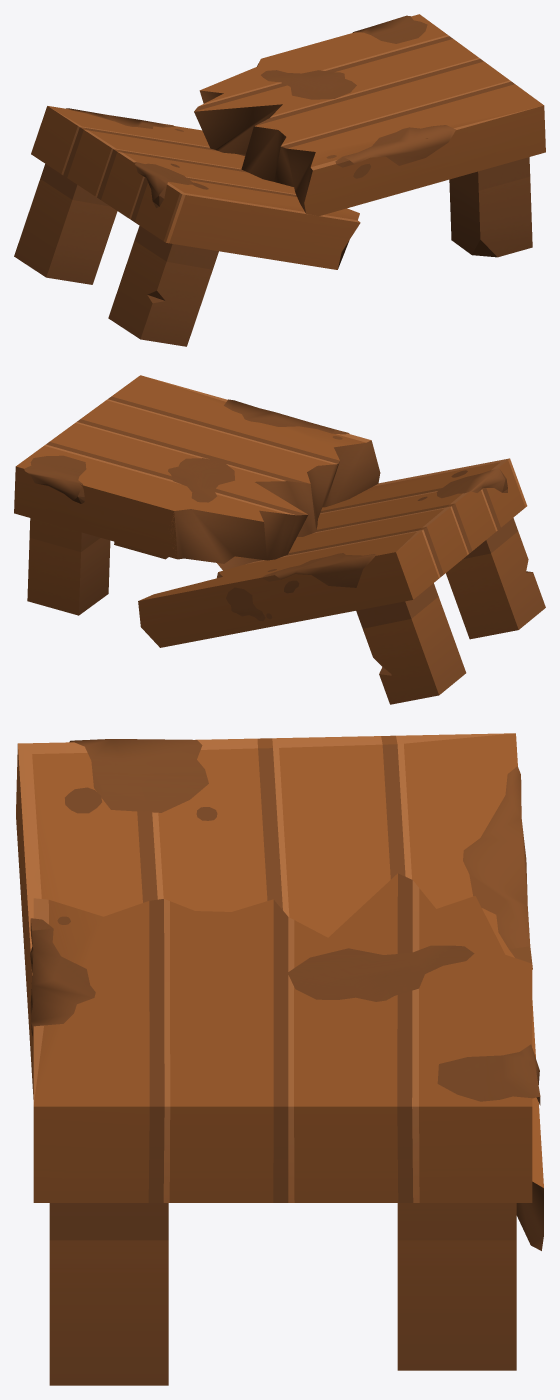
Rendered from TableBroken.FBX.
3 renders of one model, top to bottom at view 1: azimuth 30°, elevation 25°; view 2: azimuth 150°, elevation 25°; view 3: azimuth 270°, elevation 25°, orthographic. The views are drawn at different scales.
Parts seen in each view (by area): view 1: TableBrokeL, TableBrokeR; view 2: TableBrokeL, TableBrokeR; view 3: TableBrokeL, TableBrokeR.
Part boxes in pixels (<box>): TableBrokeL: <box>194,14,545,257</box>; TableBrokeR: <box>14,106,360,346</box>; TableBrokeL: <box>14,375,380,615</box>; TableBrokeR: <box>138,458,545,704</box>; TableBrokeL: <box>30,873,540,1385</box>; TableBrokeR: <box>16,733,543,1250</box>.
Bounding box in the file's own units: 1.62 × 0.5891 × 0.8883.
